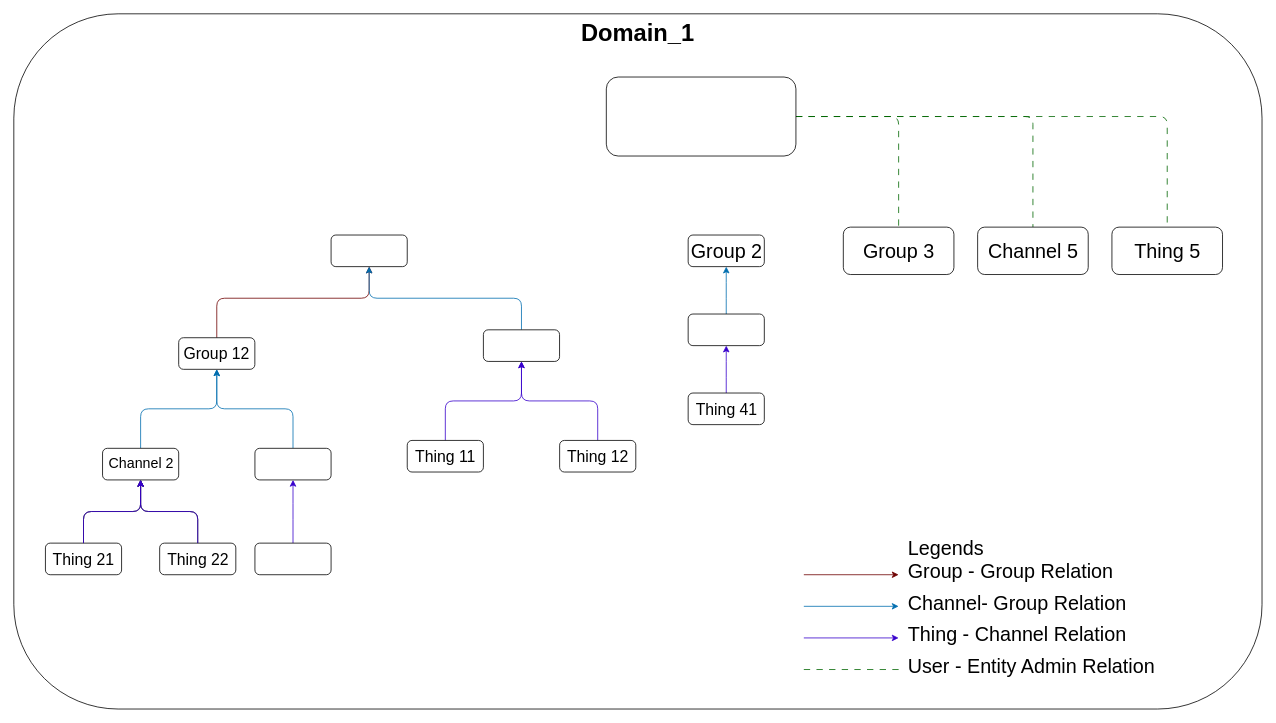
Image size: 1276x723. Some labels were removed from this diagram. The centre of each missing label's shape, as x and y in pixels:
"Channel 1" goes at (521,345).
"Channel 3" goes at (292,464).
"Channel 4" goes at (725,329).
"Group 1" goes at (368,250).
"Member User_4" goes at (701,116).
"Thing 31" goes at (292,558).
